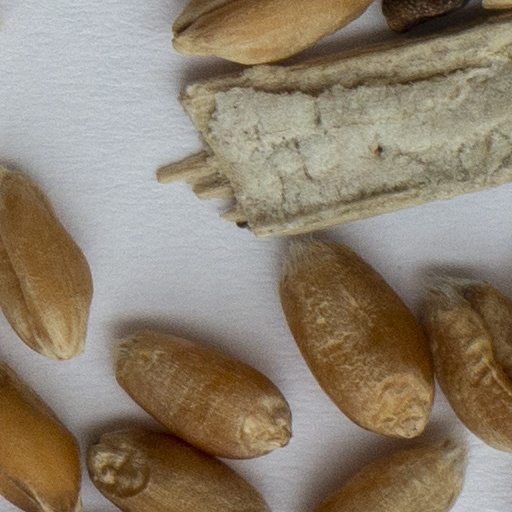Peel-poly: (159, 21, 511, 235)
